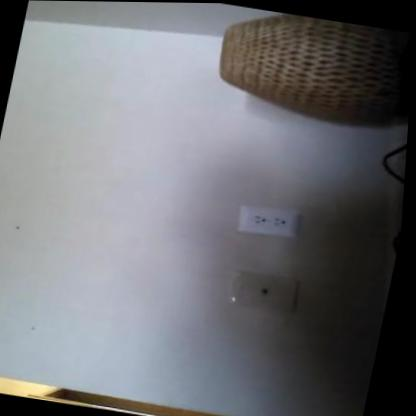OUTLET: (233, 203, 301, 241)
